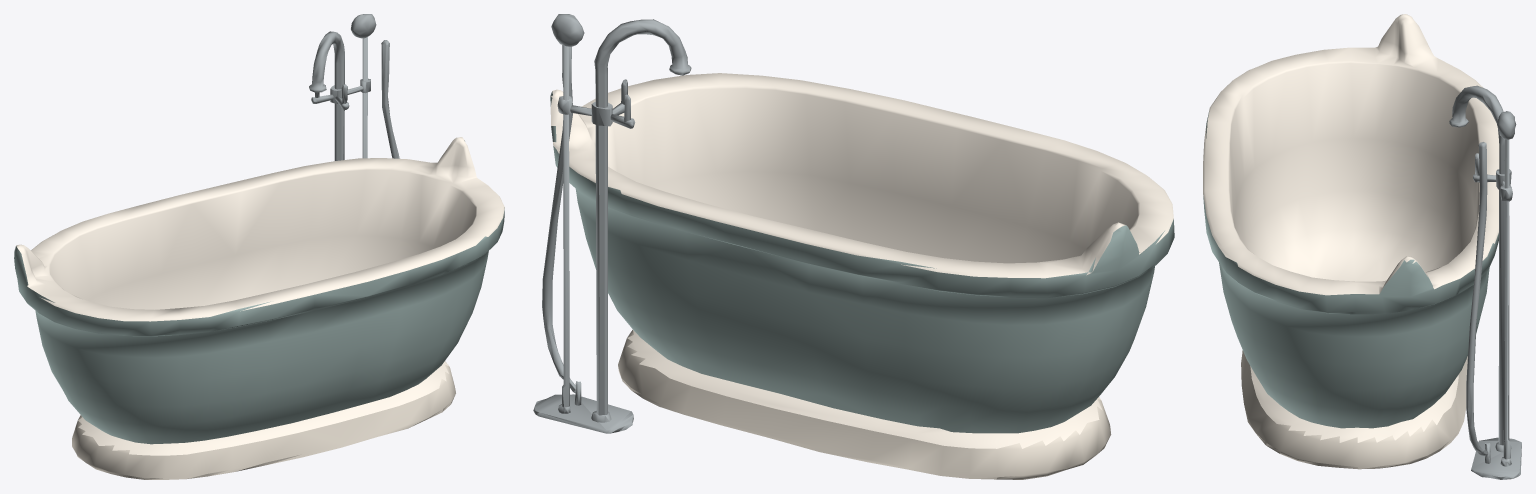
The model's file is bath_tub.glb.
The picture shows the model from 3 angles, left to right: view 1: azimuth 30°, elevation 25°; view 2: azimuth 150°, elevation 25°; view 3: azimuth 270°, elevation 25°; orthographic projection. The views are drawn at different scales.
Bounding box in the file's own units: 2.9 × 1.94 × 1.59.
